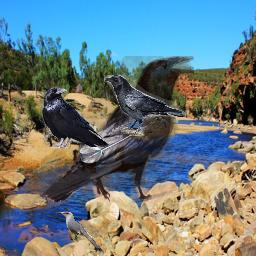Crow: (41, 56, 194, 203), (104, 75, 185, 136), (42, 87, 109, 155)
Cuckoo: (56, 211, 104, 253)
